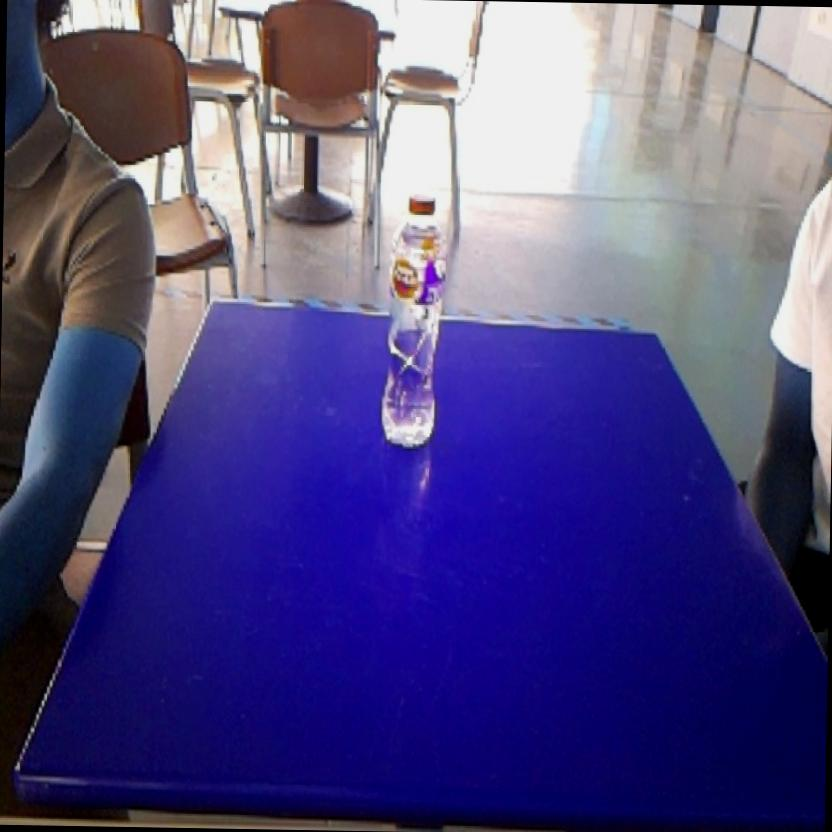good: (374, 185, 456, 460)
